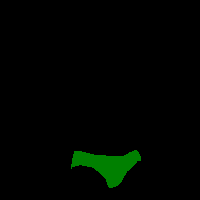mutande: (71, 149, 141, 188)
